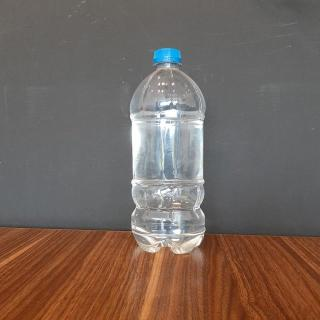Anorganik: (125, 46, 212, 258)
